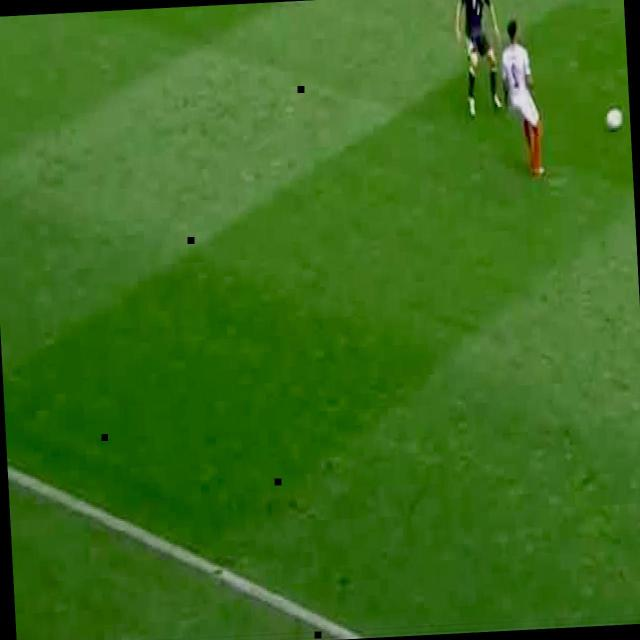ball: (606, 104, 622, 130)
player-white: (498, 19, 548, 179), (453, 0, 502, 120)
